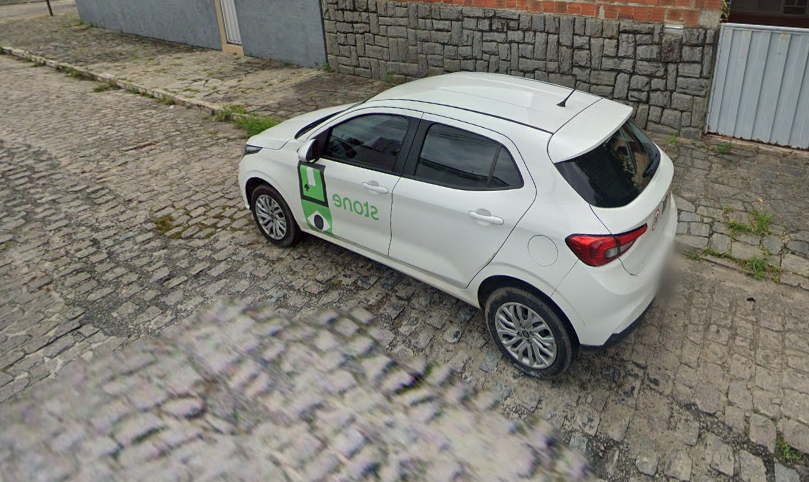car: (235, 70, 682, 382)
